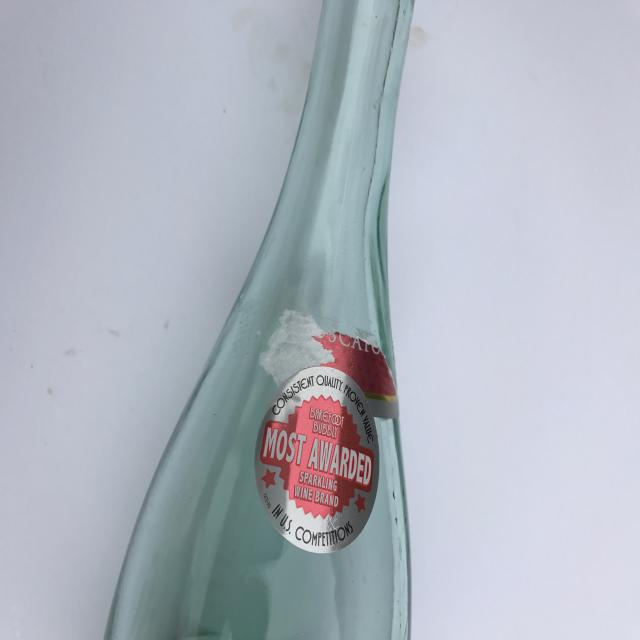glass: (103, 0, 415, 639)
